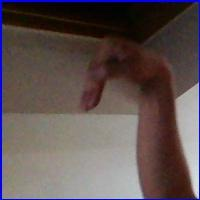A: (85, 30, 173, 129)
